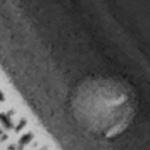colony: (60, 71, 143, 142)
